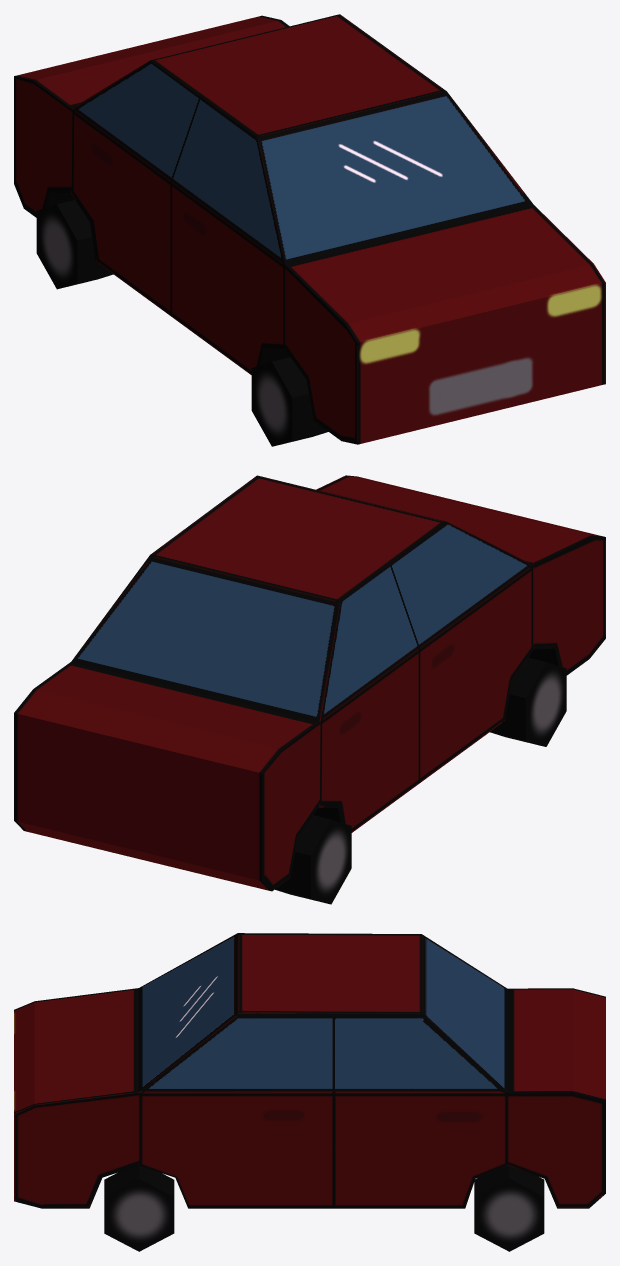
File: Car.fbx
The picture shows the model from 3 angles, top to bottom: view 1: azimuth 30°, elevation 25°; view 2: azimuth 150°, elevation 25°; view 3: azimuth 270°, elevation 25°; orthographic projection. The views are drawn at different scales.
Visible parts, largest first — view 1: Cube, Cylinder.003, Cylinder.001; view 2: Cube, Cylinder.003, Cylinder.001; view 3: Cube, Cylinder, Cylinder.002.
Boxes of the visible parts, bbox=[...] form: Cube: bbox=[14, 14, 605, 444]; Cylinder.003: bbox=[251, 357, 328, 446]; Cylinder.001: bbox=[36, 200, 113, 289]; Cube: bbox=[14, 475, 605, 891]; Cylinder.003: bbox=[490, 657, 566, 746]; Cylinder.001: bbox=[275, 815, 351, 904]; Cube: bbox=[14, 933, 605, 1208]; Cylinder: bbox=[104, 1165, 174, 1251]; Cylinder.002: bbox=[474, 1166, 544, 1251].
Size of the model in its own units: 425 by 380 by 922.
